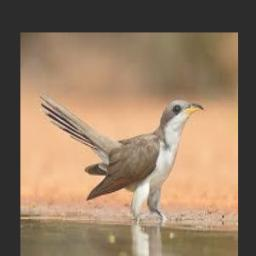Cuckoo: (40, 92, 204, 222)
